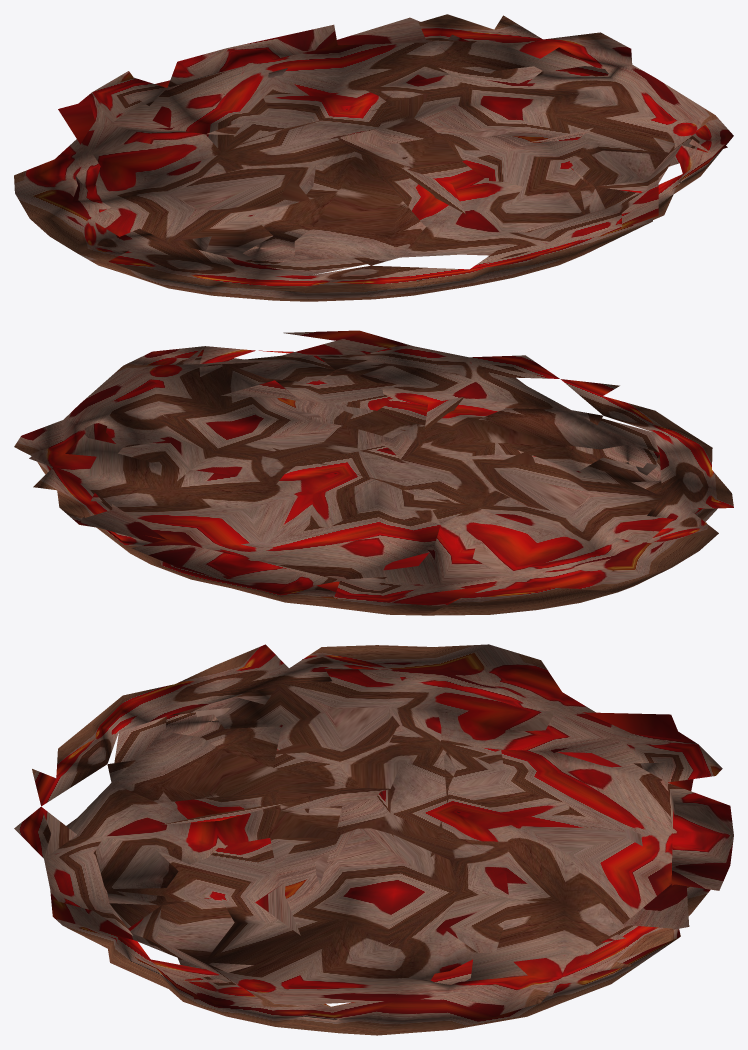
File: lingonberries.gltf
3 renders of one model, top to bottom at view 1: azimuth 30°, elevation 25°; view 2: azimuth 150°, elevation 25°; view 3: azimuth 270°, elevation 25°, orthographic. The views are drawn at different scales.
Visible parts, largest first — view 1: Lingonberries, Lingonberries_Coarse; view 2: Lingonberries, Lingonberries_Coarse; view 3: Lingonberries, Lingonberries_Coarse.
Boxes of the visible parts, bbox=[...] form: Lingonberries: bbox=[14, 14, 733, 301]; Lingonberries_Coarse: bbox=[58, 17, 727, 262]; Lingonberries: bbox=[14, 330, 733, 615]; Lingonberries_Coarse: bbox=[29, 334, 706, 602]; Lingonberries: bbox=[14, 644, 733, 1035]; Lingonberries_Coarse: bbox=[54, 659, 693, 999].
Bounding box in the file's own units: 0.4744 × 0.046 × 0.3775.
1 material, 1 textured.
